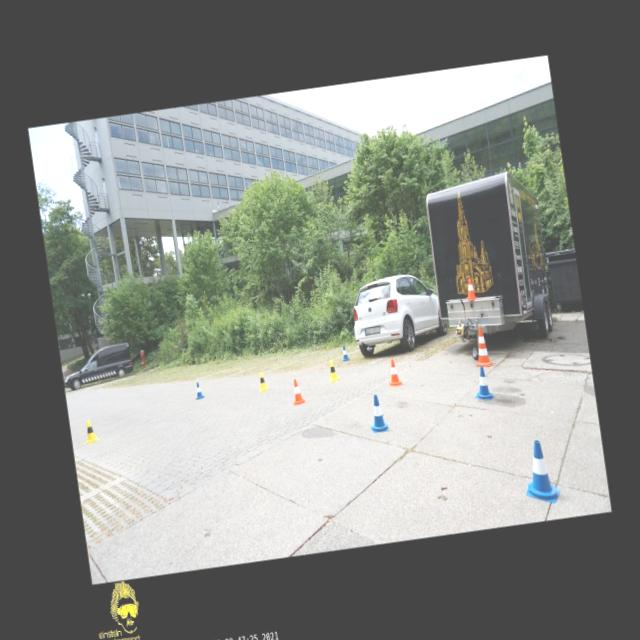blue_cone: (519, 438, 562, 507), (366, 393, 391, 433), (472, 366, 496, 402), (193, 382, 204, 399), (340, 346, 350, 362)
large_orange_cone: (471, 326, 493, 368)
orange_cone: (386, 358, 402, 386), (290, 378, 306, 404), (464, 278, 477, 300)
yellow_cone: (82, 419, 100, 444), (326, 359, 340, 382), (256, 372, 269, 392)
